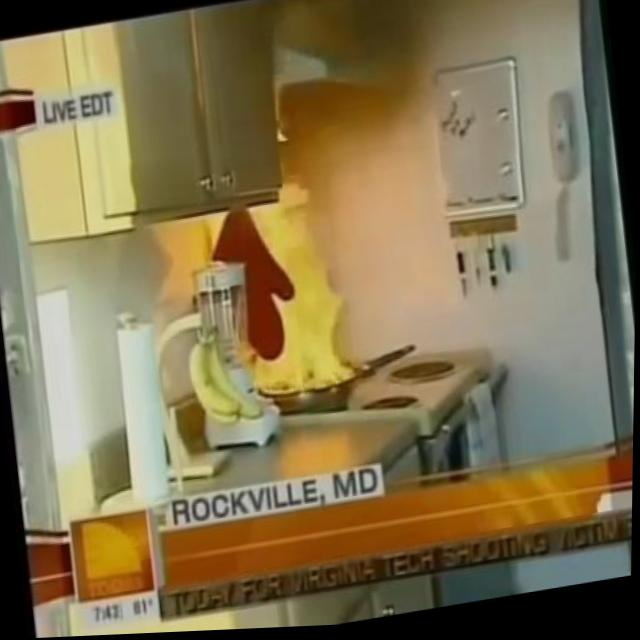fire: (234, 171, 365, 407)
